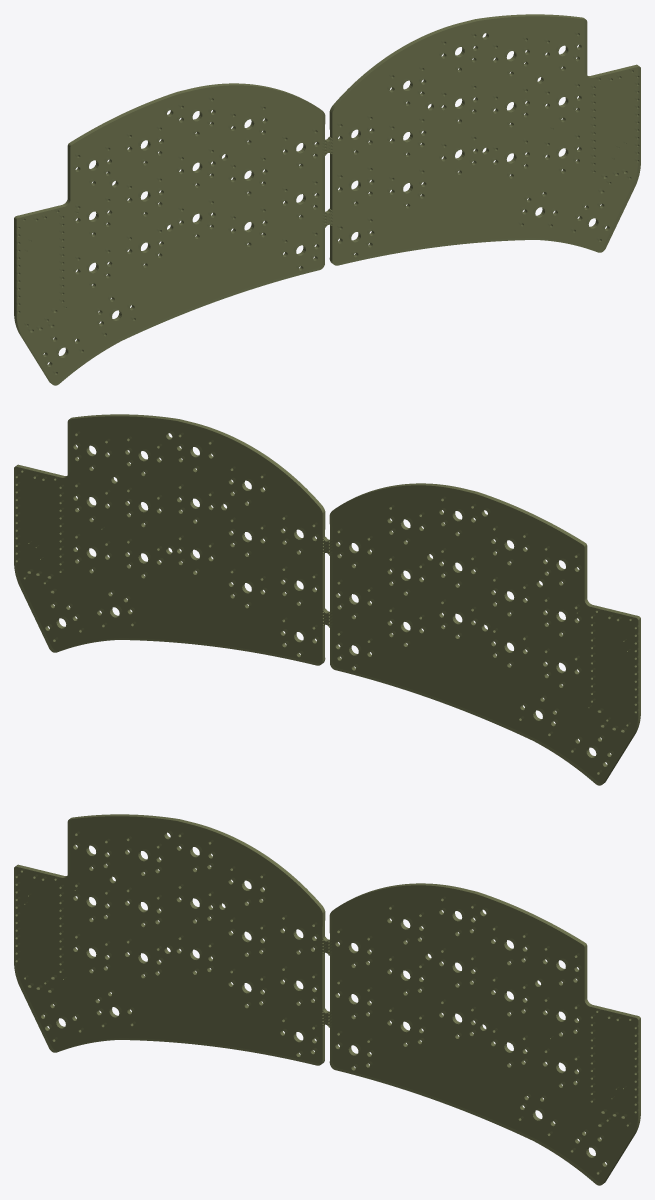
The model's file is Sweepv2.obj.
3 renders of one model, top to bottom at view 1: azimuth 30°, elevation 25°; view 2: azimuth 150°, elevation 25°; view 3: azimuth 330°, elevation 25°, orthographic.
Visible parts, largest first — view 1: SHAPE_2_IndexedFaceSet; view 2: SHAPE_2_IndexedFaceSet; view 3: SHAPE_2_IndexedFaceSet.
Part boxes in pixels (x1,y1,x2,y2): SHAPE_2_IndexedFaceSet: (14,14,640,385); SHAPE_2_IndexedFaceSet: (14,414,640,785); SHAPE_2_IndexedFaceSet: (14,814,640,1185).
Bounding box in the file's own units: 217 × 86.86 × 1.58.
